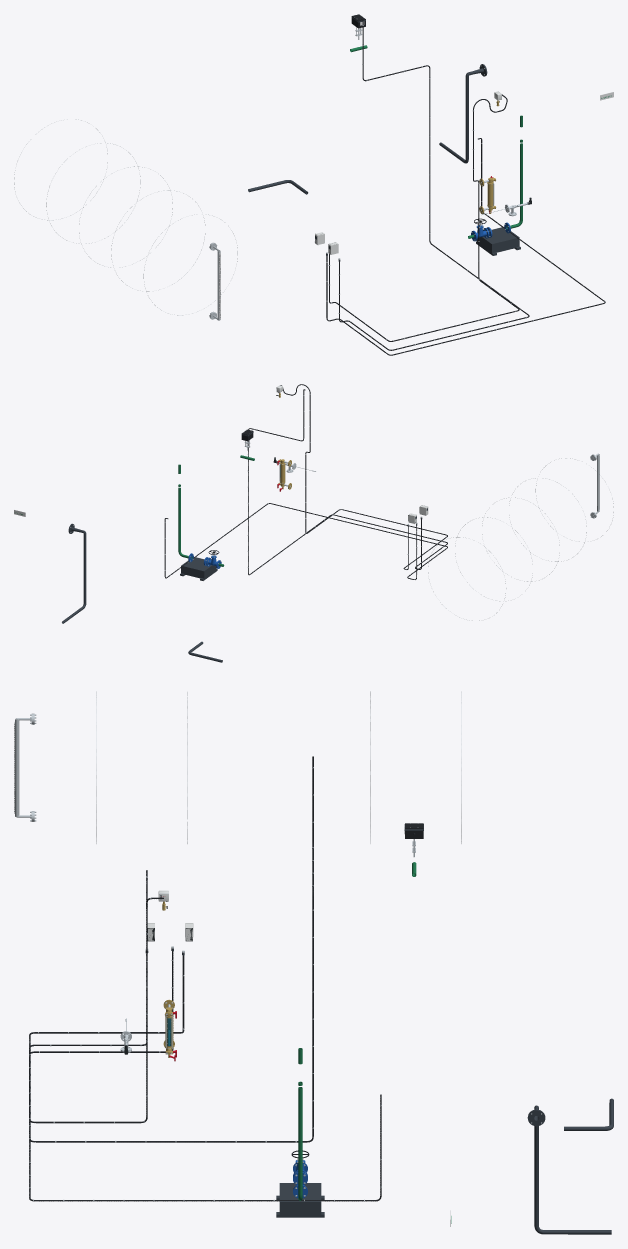
3 renders of one model, top to bottom at view 1: azimuth 30°, elevation 25°; view 2: azimuth 150°, elevation 25°; view 3: azimuth 270°, elevation 25°, orthographic. The views are drawn at different scales.
Parts seen in each view (by area): view 1: gpz_drive_cable / black, wiring_pump_2 / black, wiring_pressure_switch_3 / black, pump_branch_1 / dark, deaerator_details / steel, bottom_to_bdv / dark; view 2: gpz_drive_cable / black, wiring_pressure_switch_3 / black, wiring_pump_2 / black, pump_branch_1 / dark, deaerator_details / steel, bottom_to_bdv / dark; view 3: gpz_drive_cable / black, wiring_pressure_switch_3 / black, wiring_pump_2 / black, pump_branch_1 / dark, deaerator_details / steel, bottom_to_bdv / dark.
Boxes of the visible parts, x1,y1,x2,y2 form: gpz_drive_cable / black: (339, 18, 529, 350); wiring_pump_2 / black: (326, 138, 605, 355); wiring_pressure_switch_3 / black: (329, 94, 519, 341); pump_branch_1 / dark: (476, 227, 520, 255); deaerator_details / steel: (14, 119, 237, 320); bottom_to_bdv / dark: (439, 64, 487, 163); gpz_drive_cable / black: (248, 389, 447, 575); wiring_pressure_switch_3 / black: (280, 384, 447, 569); wiring_pump_2 / black: (164, 503, 447, 579); pump_branch_1 / dark: (180, 557, 217, 580); deaerator_details / steel: (428, 453, 613, 620); bottom_to_bdv / dark: (62, 523, 86, 623); gpz_drive_cable / black: (29, 756, 313, 1142); wiring_pressure_switch_3 / black: (29, 870, 184, 1123); wiring_pump_2 / black: (29, 951, 381, 1201); pump_branch_1 / dark: (276, 1183, 324, 1217); deaerator_details / steel: (15, 691, 461, 843); bottom_to_bdv / dark: (527, 1105, 611, 1234).
Bounding box in the file's own units: 9.02 × 3.71 × 5.59.
